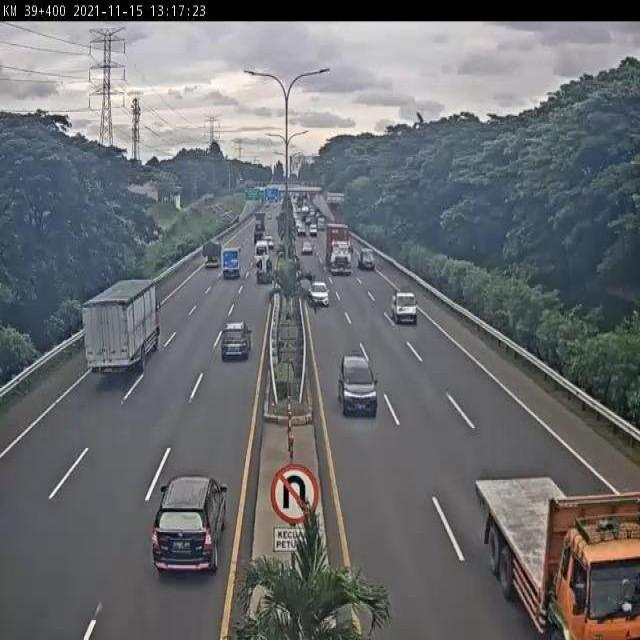car: (151, 475, 228, 577), (339, 354, 379, 418), (220, 319, 253, 361), (308, 280, 331, 308)
truck-l-: (475, 476, 640, 640), (84, 275, 162, 376)
truck-s-: (390, 288, 419, 327), (219, 246, 243, 282), (255, 256, 274, 288)
truck-xl-: (323, 221, 354, 279)
